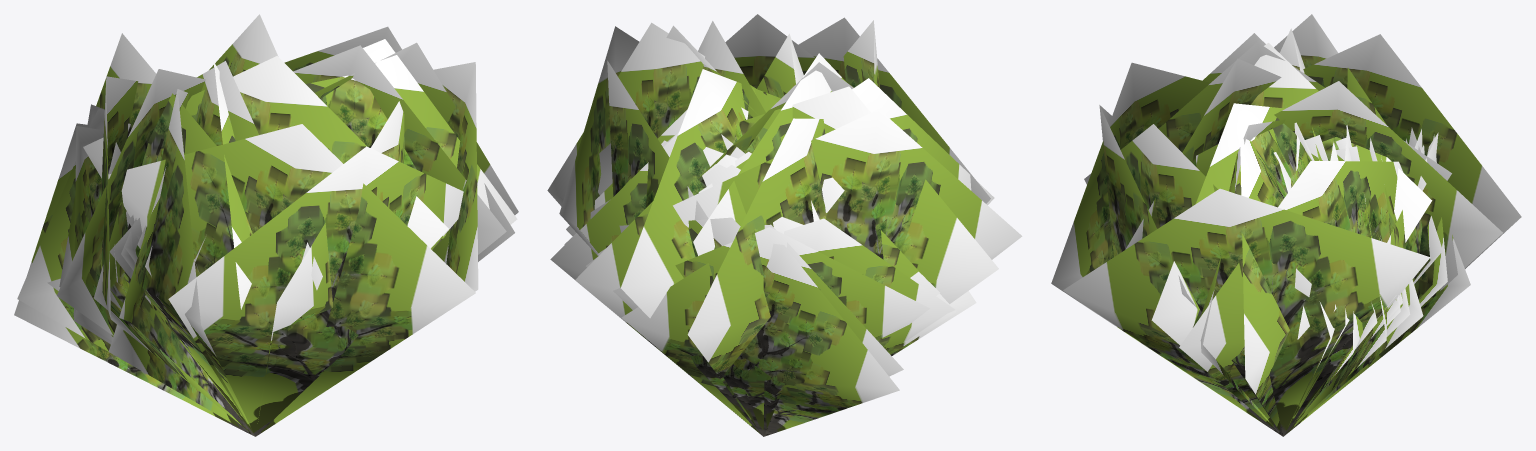
Rendered from bush.fbx.
The picture shows the model from 3 angles, left to right: view 1: azimuth 30°, elevation 25°; view 2: azimuth 150°, elevation 25°; view 3: azimuth 270°, elevation 25°; orthographic projection. The views are drawn at different scales.
Visible parts, largest first — view 1: bush_Buisson_02_Atlas; view 2: bush_Buisson_02_Atlas; view 3: bush_Buisson_02_Atlas.
Boxes of the visible parts, box(x1,y1,x2,y2) form: bush_Buisson_02_Atlas: box(14, 14, 518, 436); bush_Buisson_02_Atlas: box(547, 14, 1022, 436); bush_Buisson_02_Atlas: box(1051, 14, 1521, 436).
Size of the model in its own units: 6.08 by 5.65 by 5.
Materials: 1 (1 with a texture image).
